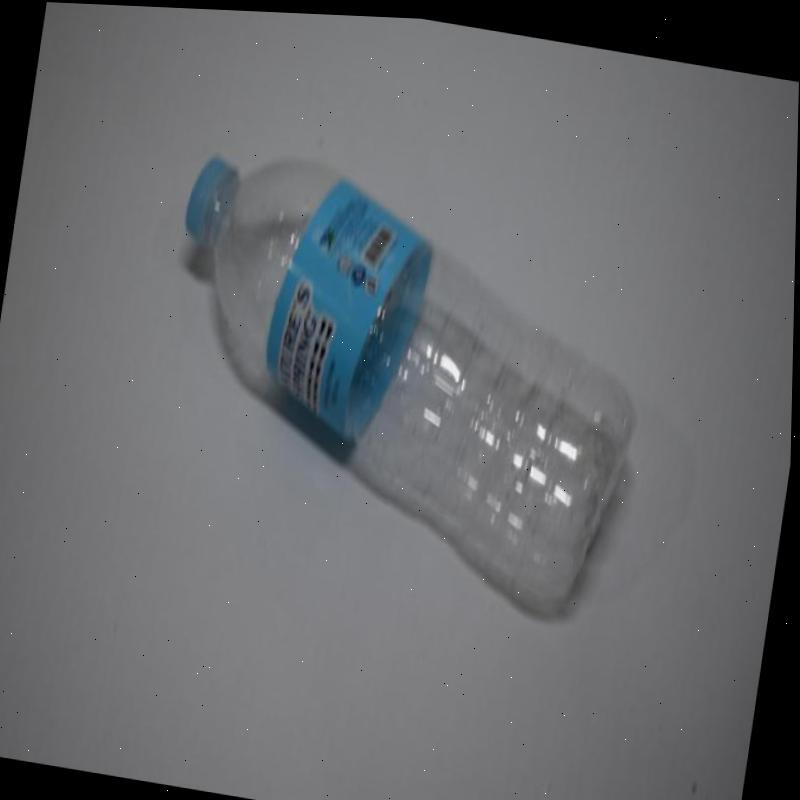botella: (139, 138, 670, 613)
